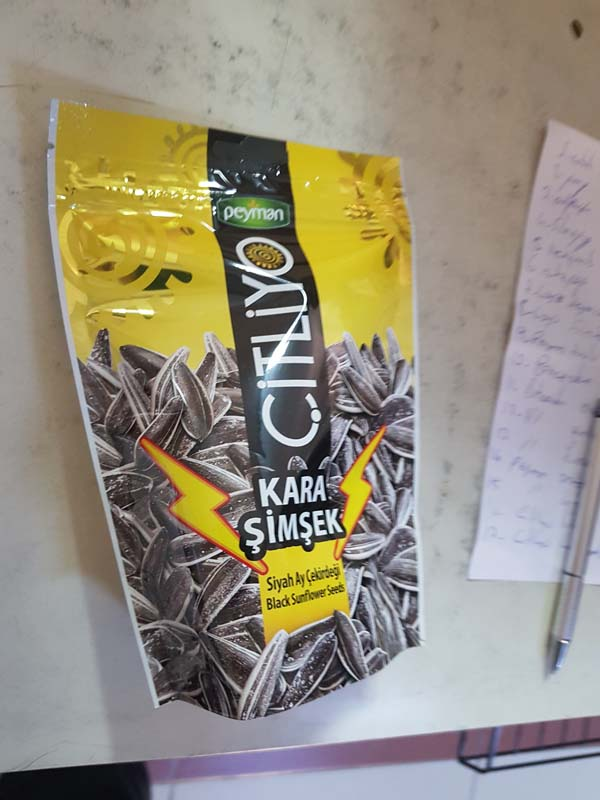citliyokarasimsek: (39, 82, 436, 728)
